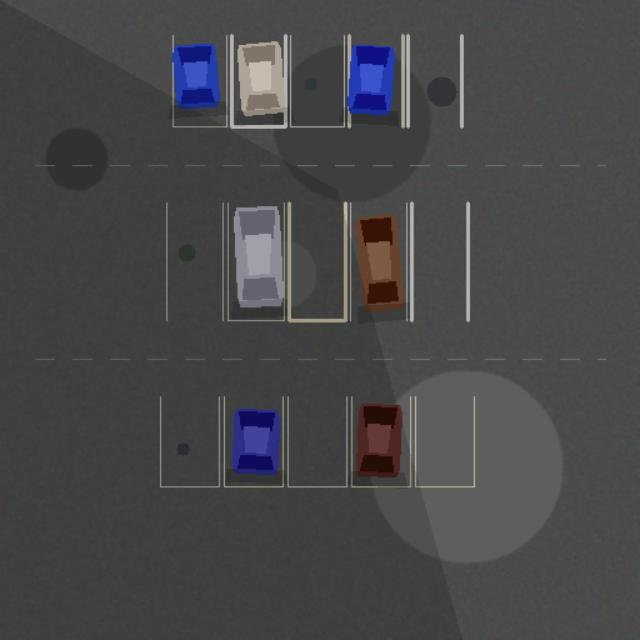space-empty: (166, 202, 223, 320), (289, 202, 345, 320), (411, 202, 467, 320), (160, 396, 219, 486), (287, 396, 346, 486), (415, 396, 474, 486), (290, 35, 344, 126), (408, 35, 461, 126)
space-occupied: (227, 202, 284, 320), (350, 202, 406, 320), (224, 396, 283, 486), (351, 396, 410, 486), (172, 35, 226, 126), (231, 35, 285, 126), (349, 35, 402, 126)
